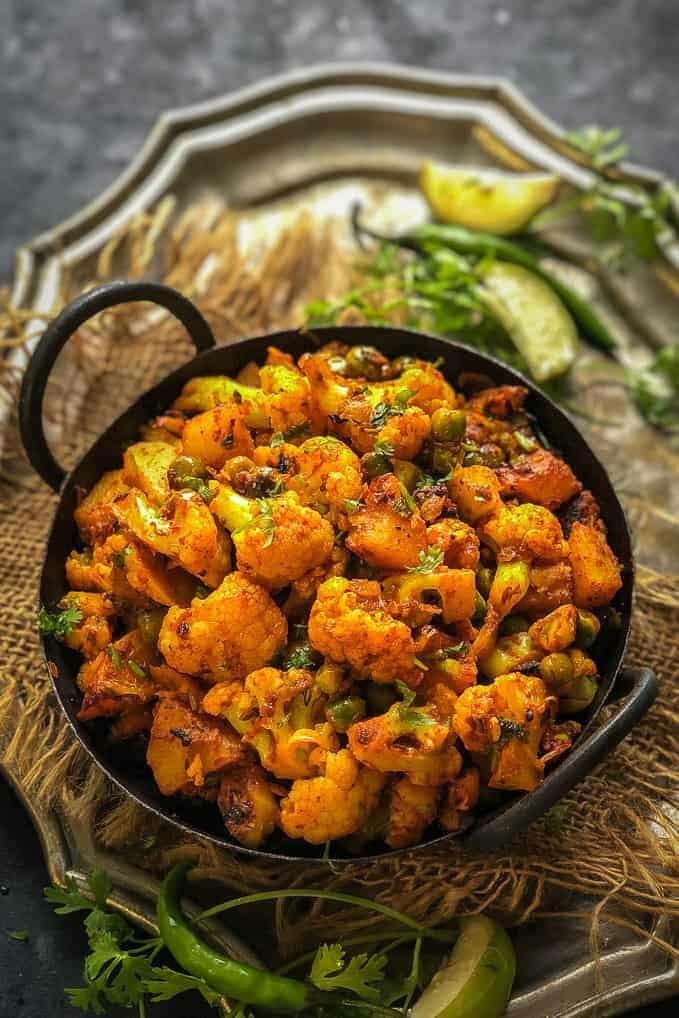AlooGobi: (59, 340, 624, 845)
